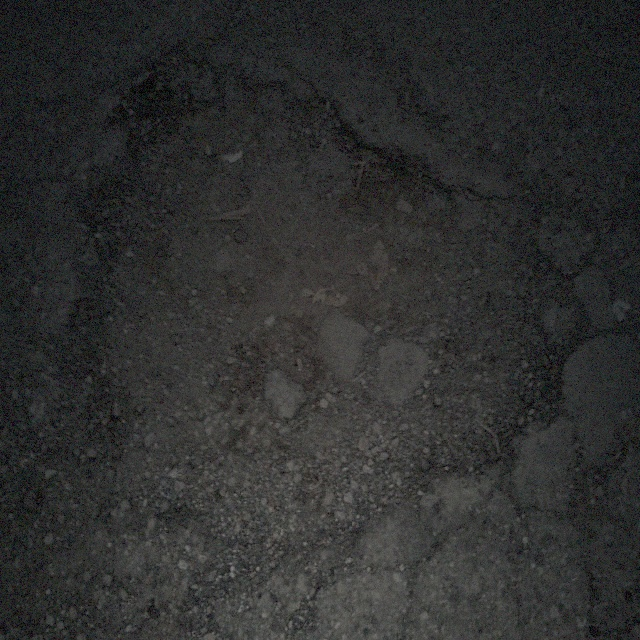pothole: (48, 48, 592, 589)
